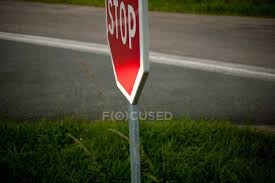SS: (98, 0, 150, 104)
